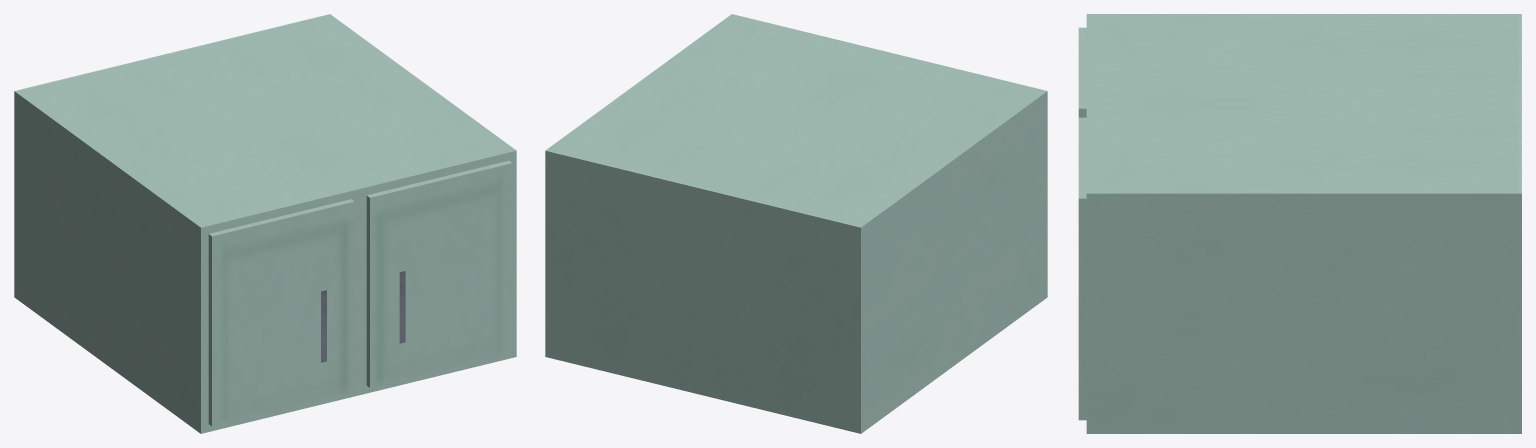
The model's file is Tiroir.fbx.
3 views of the same model, side by side, from view 1: azimuth 30°, elevation 25°; view 2: azimuth 150°, elevation 25°; view 3: azimuth 270°, elevation 25° (orthographic). The views are drawn at different scales.
Parts seen in each view (by area): view 1: Cube.001; view 2: Cube.001; view 3: Cube.001.
Boxes of the visible parts, x1=… form: Cube.001: x1=14, y1=14, x2=516, y2=433; Cube.001: x1=545, y1=14, x2=1047, y2=433; Cube.001: x1=1078, y1=14, x2=1521, y2=433.
Bounding box in the file's own units: 1491 × 930 × 1563.
